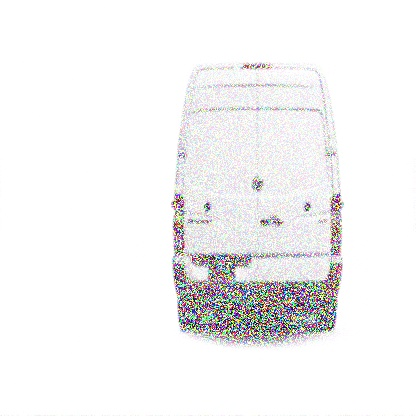Vehicle: (169, 53, 346, 338)
